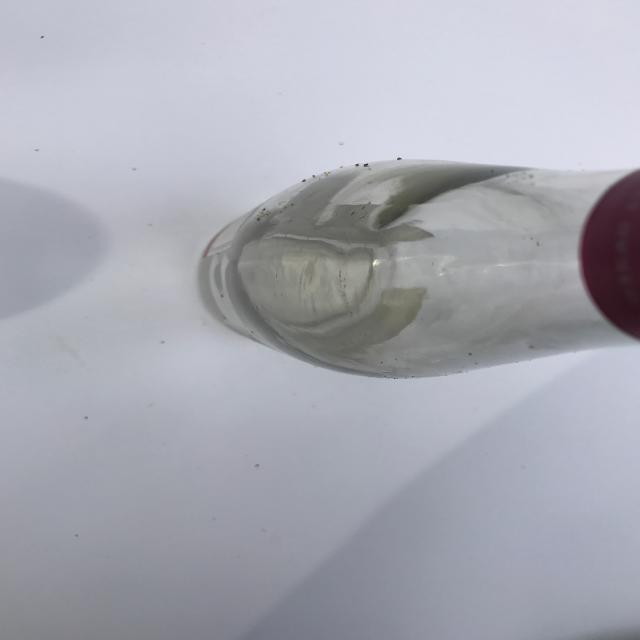glass: (195, 156, 640, 380)
